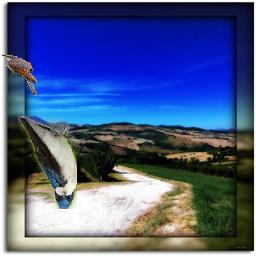Cuckoo: (1, 54, 37, 96)
Swallow: (19, 117, 78, 210)
